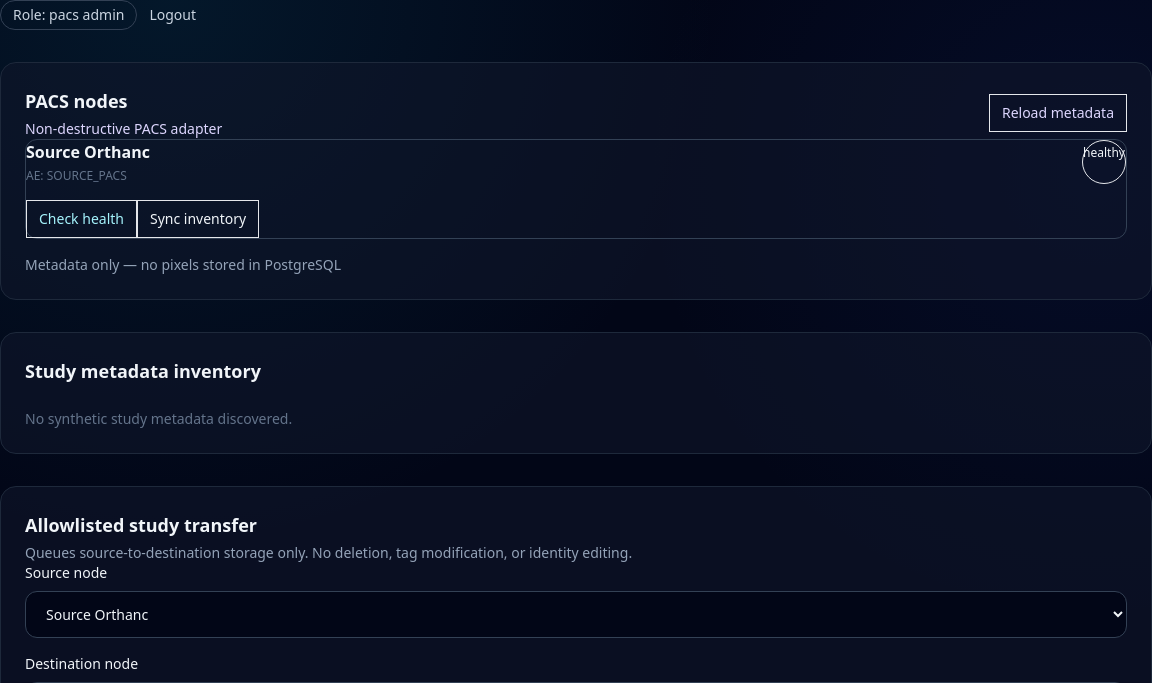
Test: session lifecycle › clears loaded PACS data when an expired-session logout returns 401
Expected: the heading "Source Orthanc" is shown, left=26, top=140, right=150, bottom=164
Click the button "Logout" at (173, 15), box left=149, top=5, right=196, bottom=25
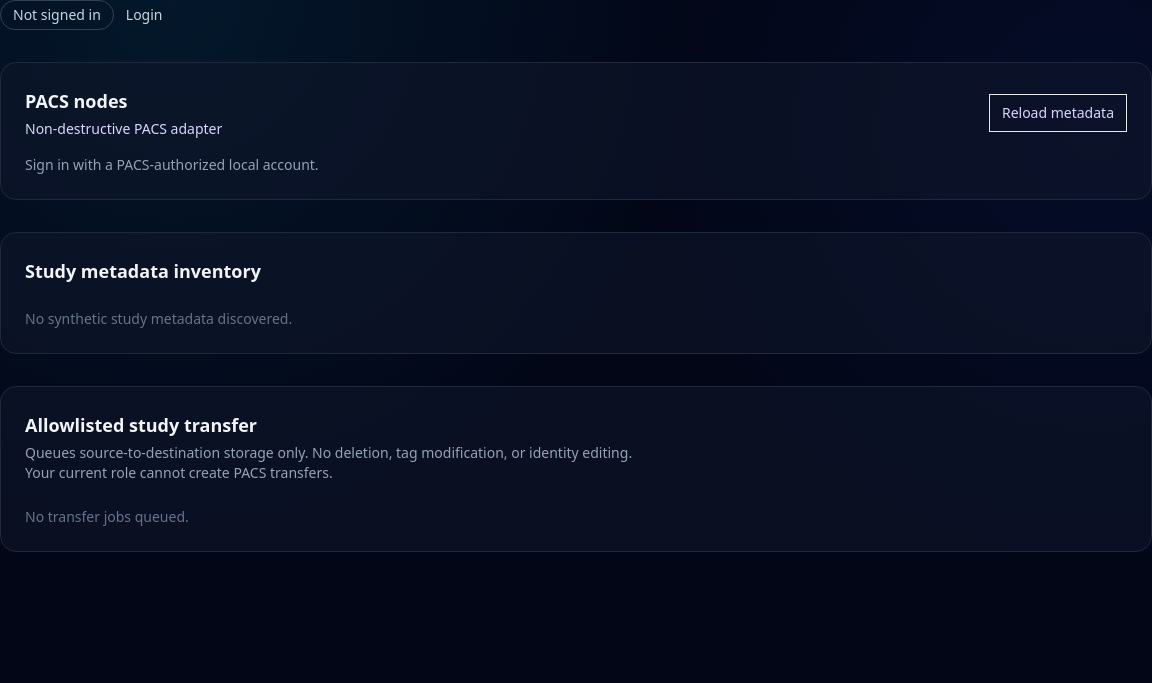
Now the heading "Source Orthanc" is gone
Now the link "Login" is shown, box left=126, top=5, right=162, bottom=25
